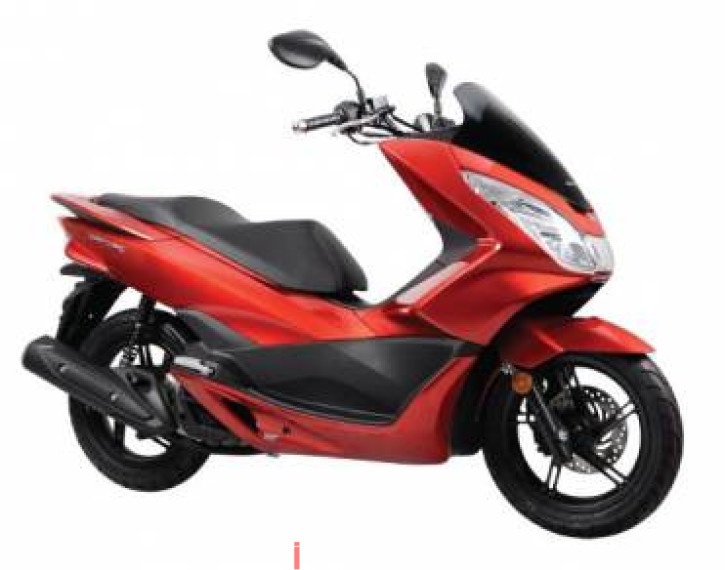motorcycle: (38, 83, 685, 540)
